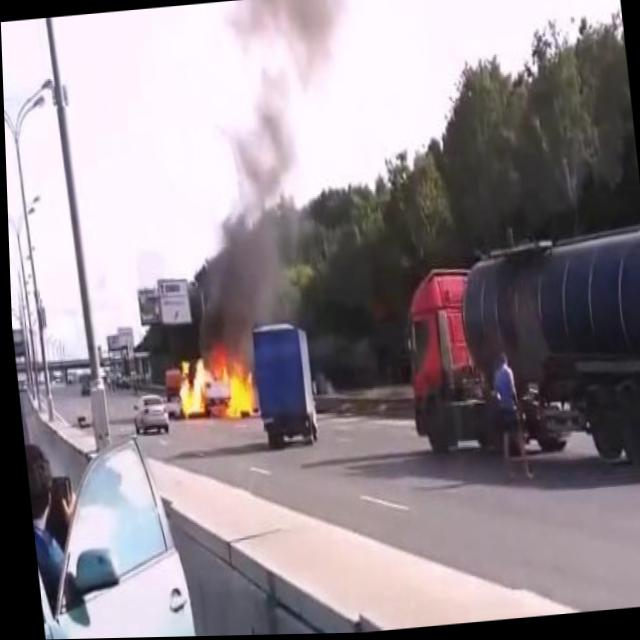fire: (170, 350, 257, 428)
